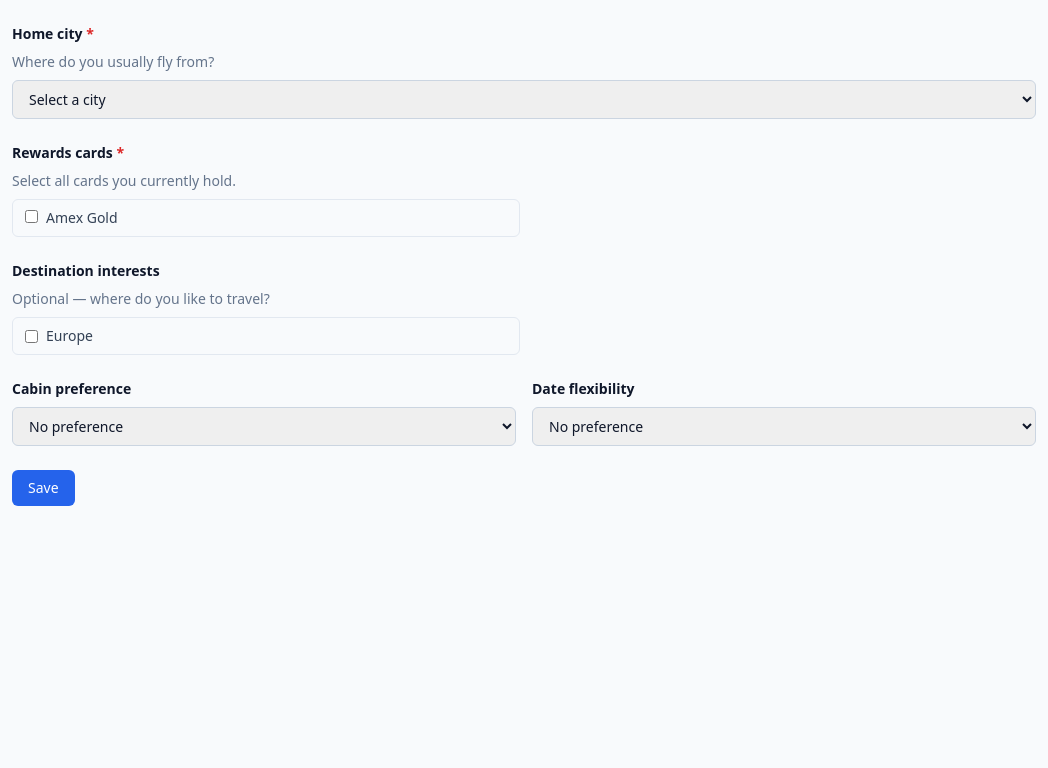
Test: PreferencesForm validation › shows required field messages when submitting an empty form
Click the button "Save" at {"x": 43, "y": 488}, box [12,470,75,506]
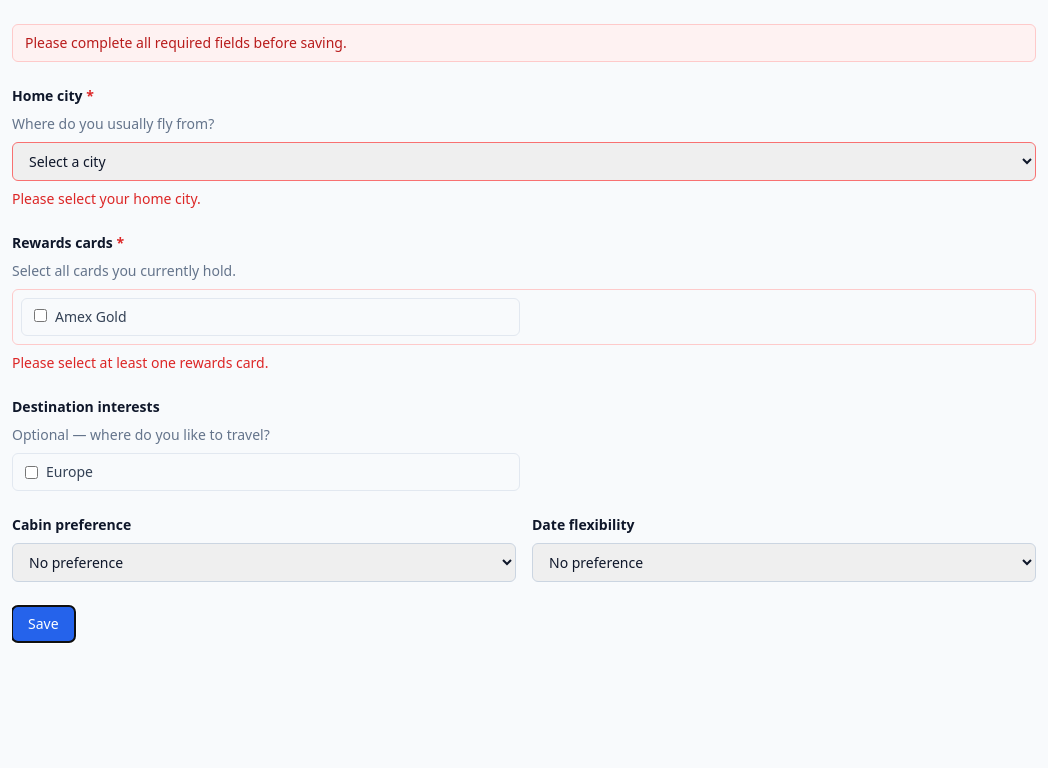
Now the text "Please complete all required fields before saving." is shown, box [12,24,1036,62]
Now the text "Please select your home city." is shown, box [12,189,201,208]
Now the text "Please select at least one rewards card." is shown, box [12,353,268,372]
